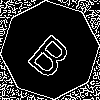B: (25, 25, 80, 81)
